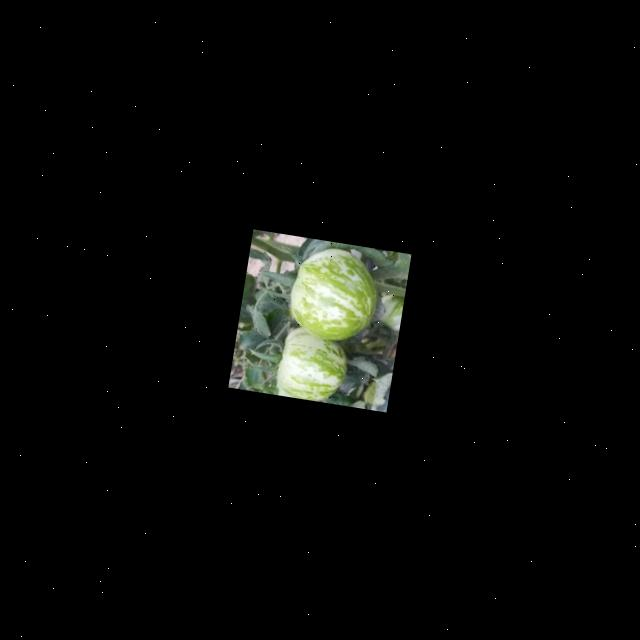tomato: (255, 238, 394, 408)
